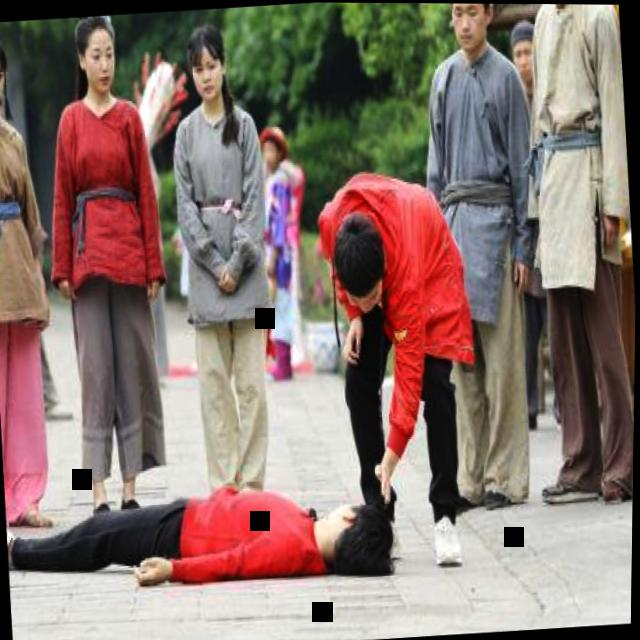Fall-Detected: (3, 447, 404, 594)
